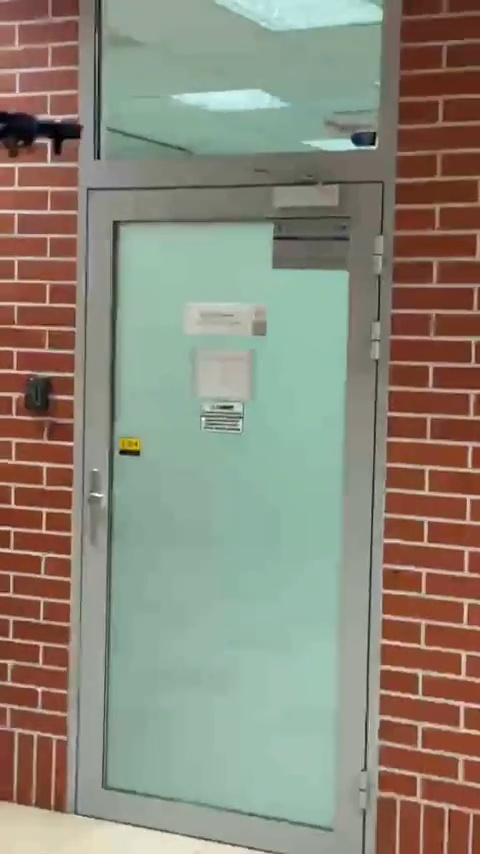drone: (0, 106, 81, 159)
